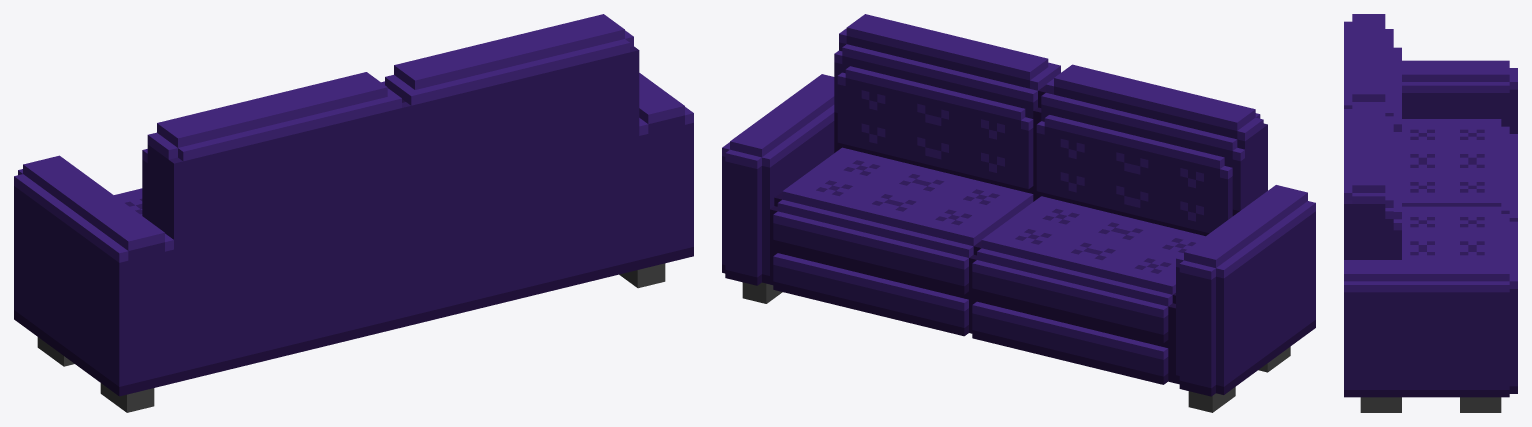
The model's file is sofa2.obj.
3 renders of one model, left to right at view 1: azimuth 30°, elevation 25°; view 2: azimuth 150°, elevation 25°; view 3: azimuth 270°, elevation 25°, orthographic. The views are drawn at different scales.
Visible parts, largest first — view 1: sofa2; view 2: sofa2; view 3: sofa2.
Boxes of the visible parts, x1,y1,x2,y2 form: sofa2: (14, 14, 693, 412); sofa2: (722, 14, 1315, 412); sofa2: (1344, 14, 1517, 412).
Bounding box in the file's own units: 63 × 28 × 21.
1 material, 1 textured.
